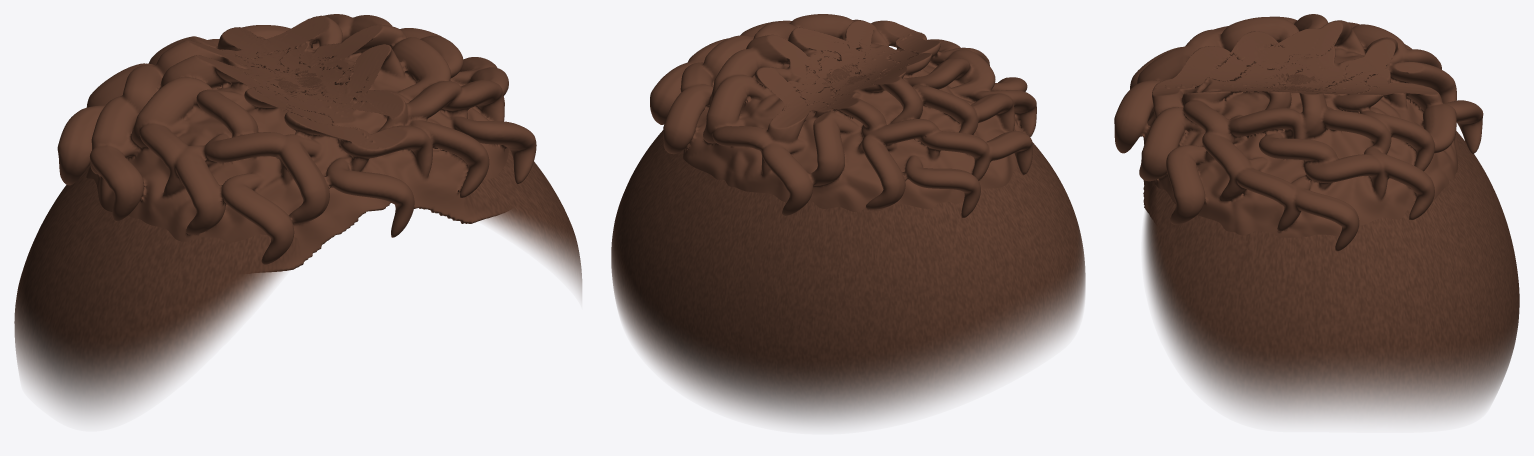
File: Masculine-curly-top-cowboy252-hair.glb
3 views of the same model, side by side, from view 1: azimuth 30°, elevation 25°; view 2: azimuth 150°, elevation 25°; view 3: azimuth 270°, elevation 25° (orthographic). The views are drawn at different scales.
Parts seen in each view (by area): view 1: 226 hair / Hair252 / sculpted curl groups.001, 226 hair / Hair252 / curly close fade coverage.001; view 2: 226 hair / Hair252 / curly close fade coverage.001, 226 hair / Hair252 / sculpted curl groups.001; view 3: 226 hair / Hair252 / curly close fade coverage.001, 226 hair / Hair252 / sculpted curl groups.001.
Boxes of the visible parts, bbox=[...] form: 226 hair / Hair252 / sculpted curl groups.001: bbox=[57, 14, 536, 272]; 226 hair / Hair252 / curly close fade coverage.001: bbox=[14, 68, 581, 416]; 226 hair / Hair252 / curly close fade coverage.001: bbox=[611, 62, 1085, 424]; 226 hair / Hair252 / sculpted curl groups.001: bbox=[650, 14, 1036, 217]; 226 hair / Hair252 / curly close fade coverage.001: bbox=[1143, 73, 1519, 419]; 226 hair / Hair252 / sculpted curl groups.001: bbox=[1114, 14, 1483, 251].
Size of the model in its own units: 0.976 by 0.6999 by 0.762.
2 materials, 1 textured.
